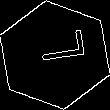L_W: (26, 36, 84, 74)
